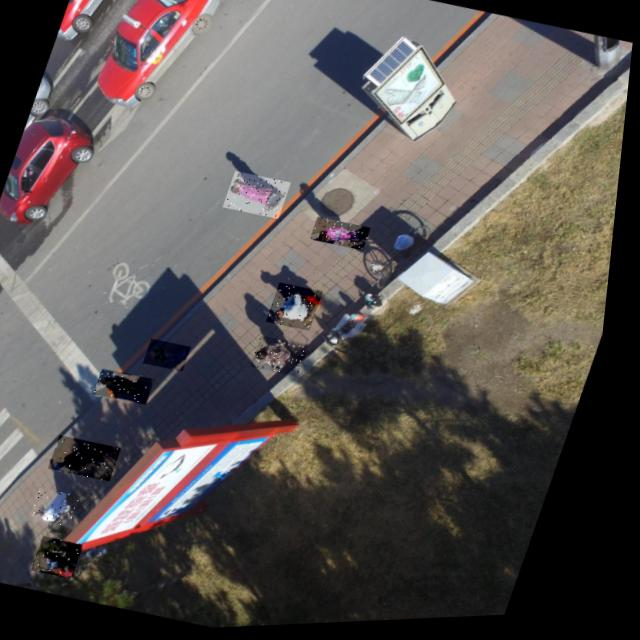Person: (57, 433, 132, 484), (226, 170, 296, 222), (272, 283, 330, 335), (257, 335, 317, 380), (101, 366, 164, 407), (42, 534, 96, 580), (314, 217, 377, 255), (38, 486, 91, 531), (149, 338, 199, 374)
